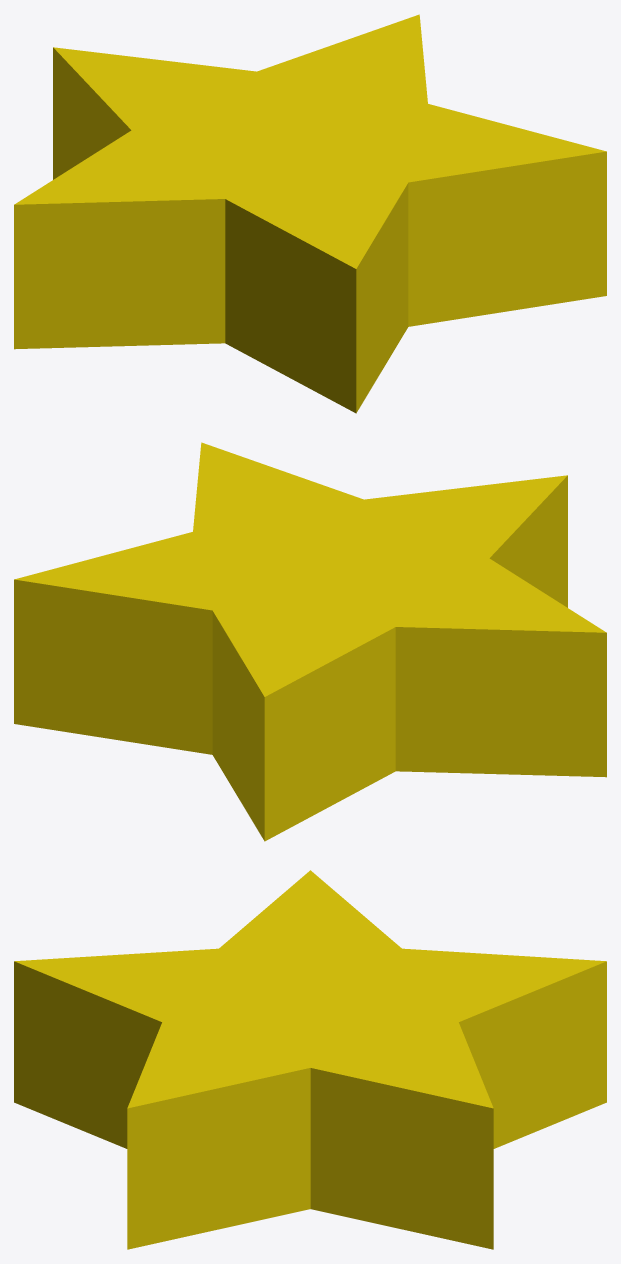
File: Star.glb
3 renders of one model, top to bottom at view 1: azimuth 30°, elevation 25°; view 2: azimuth 150°, elevation 25°; view 3: azimuth 270°, elevation 25°, orthographic. The views are drawn at different scales.
Visible parts, largest first — view 1: Star; view 2: Star; view 3: Star.
Boxes of the visible parts, x1,y1,x2,y2 form: Star: (14,14,606,413); Star: (14,442,606,841); Star: (14,870,606,1249).
Bounding box in the file's own units: 1.81 × 0.5 × 1.9.
